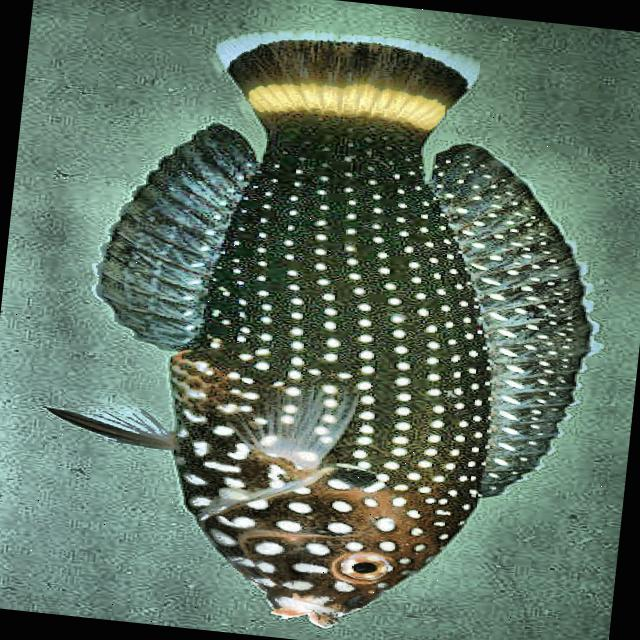fish: (16, 3, 631, 640)
